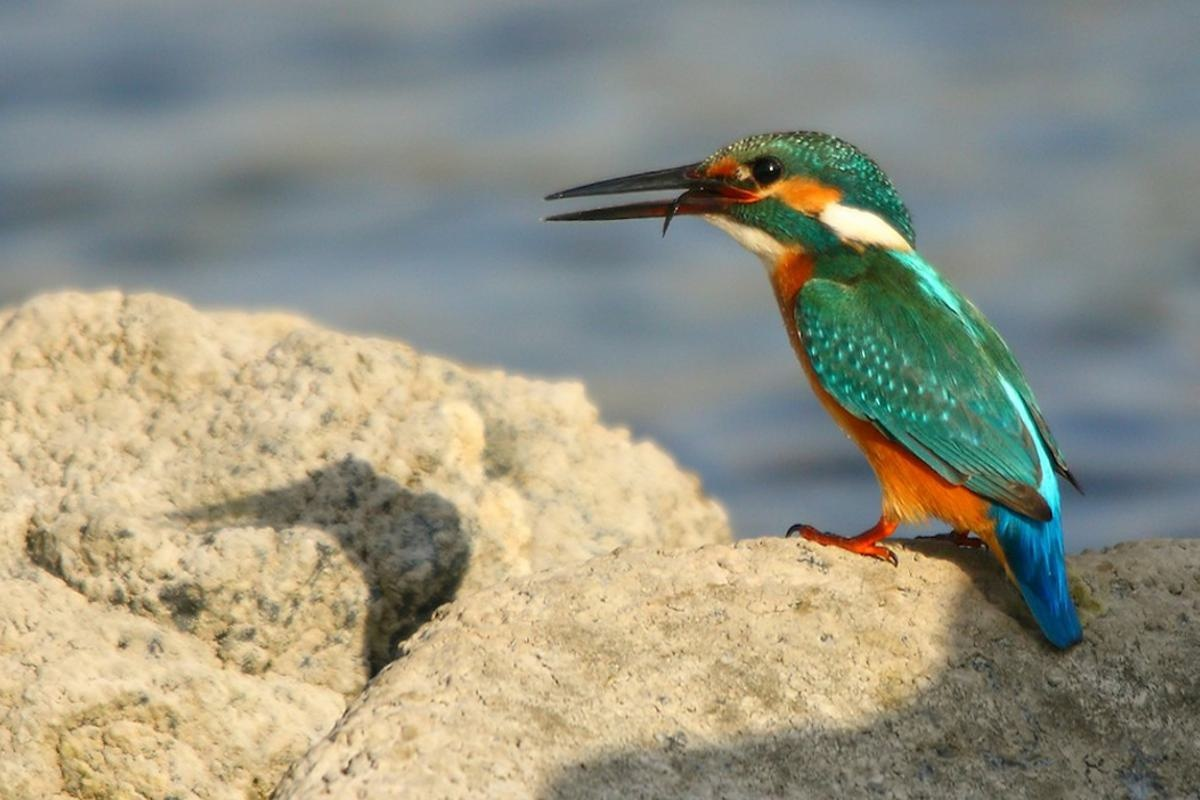kingfisher: (510, 121, 1196, 672)
